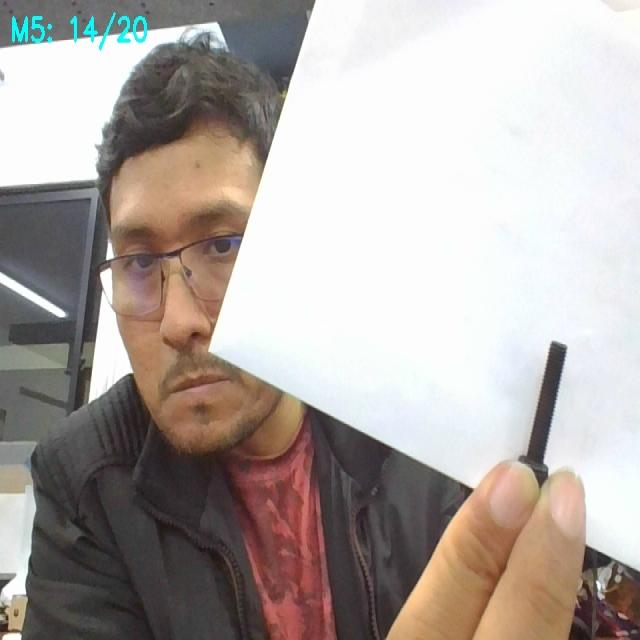vastago: (527, 341, 566, 463)
